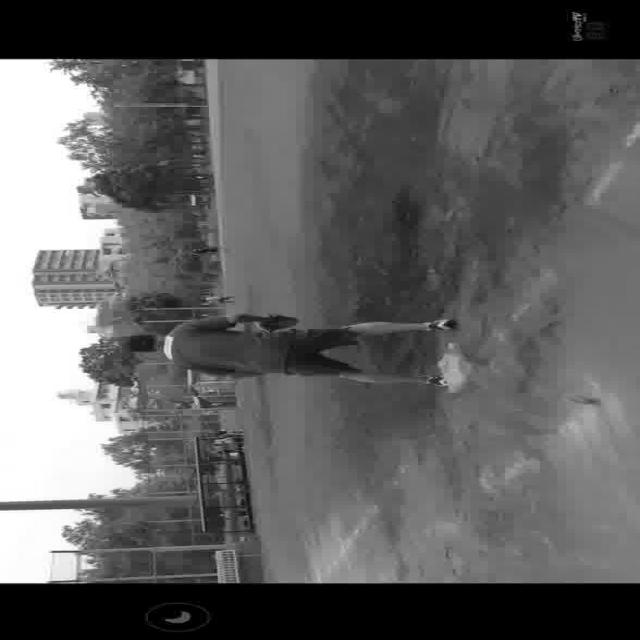base: (434, 339, 472, 397)
baseball_glove: (251, 309, 301, 331)
shoe: (424, 313, 460, 333), (414, 374, 444, 388)
